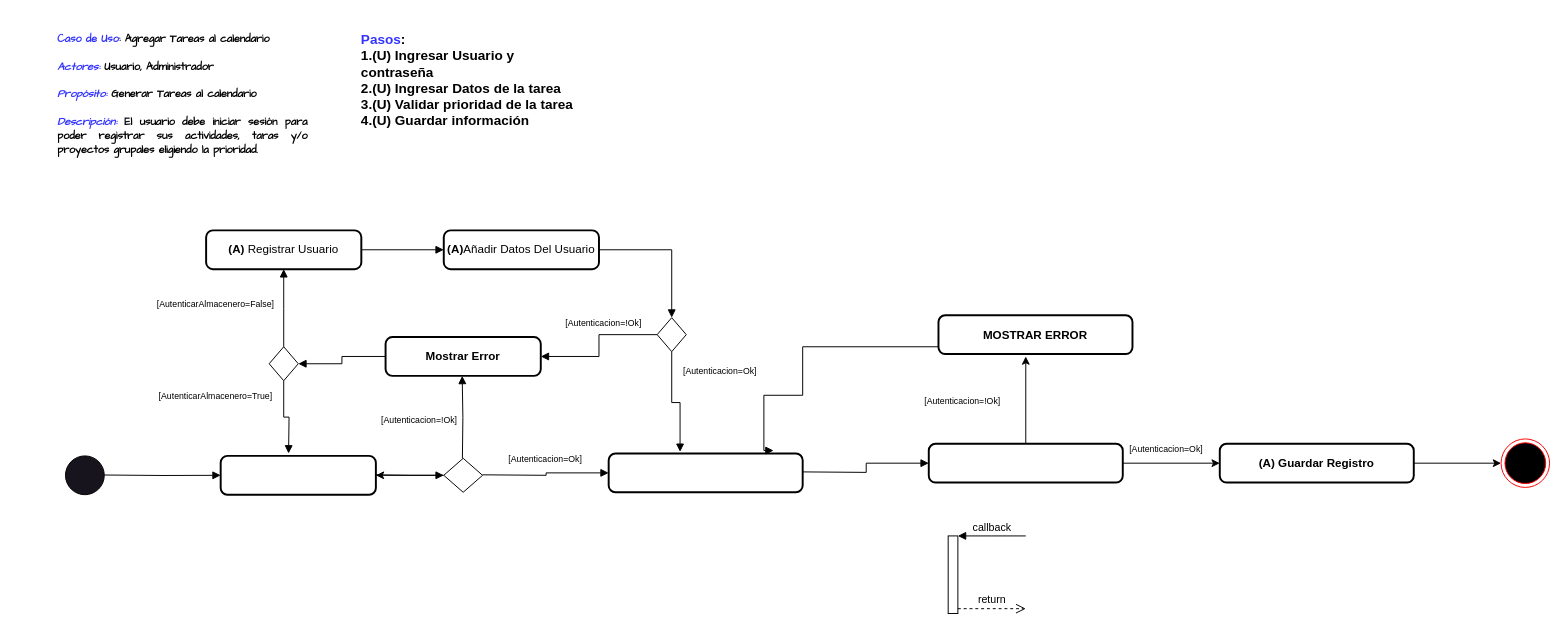
This 1567x635 diagram has some shape labels left out. The shapes that lost their labels are listed below. From the top down, each one's centre as x and y in pixels, then its label:
(x=297, y=474): (U) Validar Usuario
(x=705, y=472): (A) Ingresar Datos de la tarea
(x=1025, y=462): (A) Validar Prioridad
